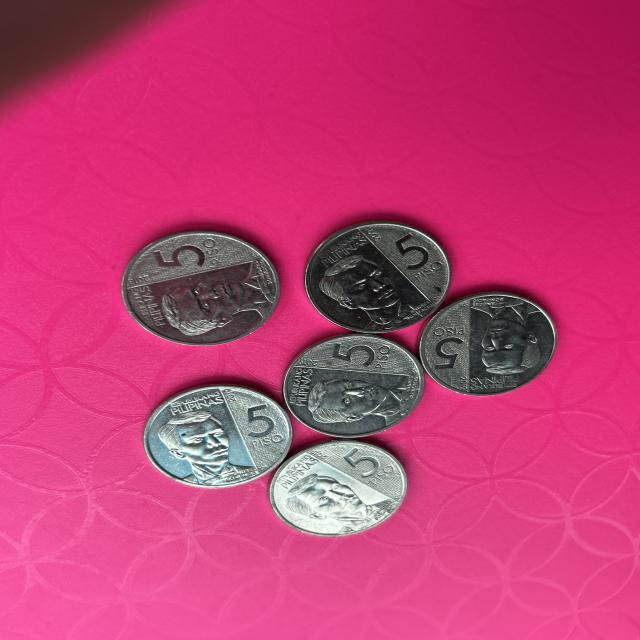5_New_Front: (370, 232, 446, 283), (332, 334, 407, 379), (336, 442, 406, 488), (429, 314, 477, 376), (238, 404, 287, 461), (154, 236, 228, 269)
